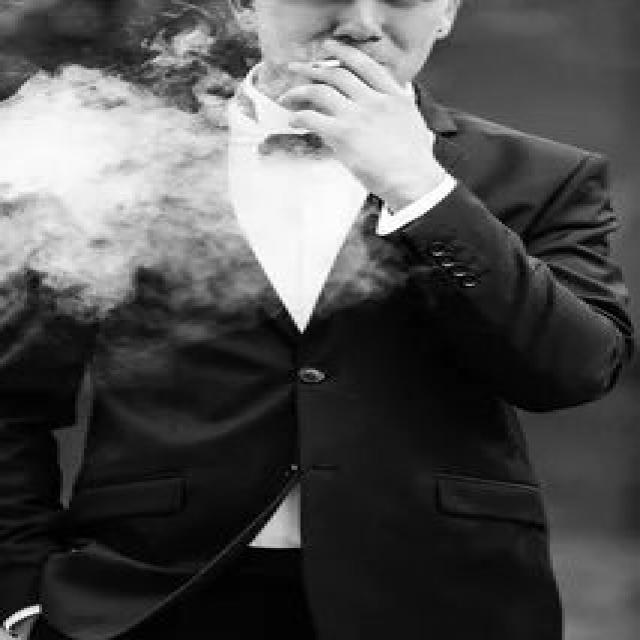smoke: (306, 54, 361, 78)
